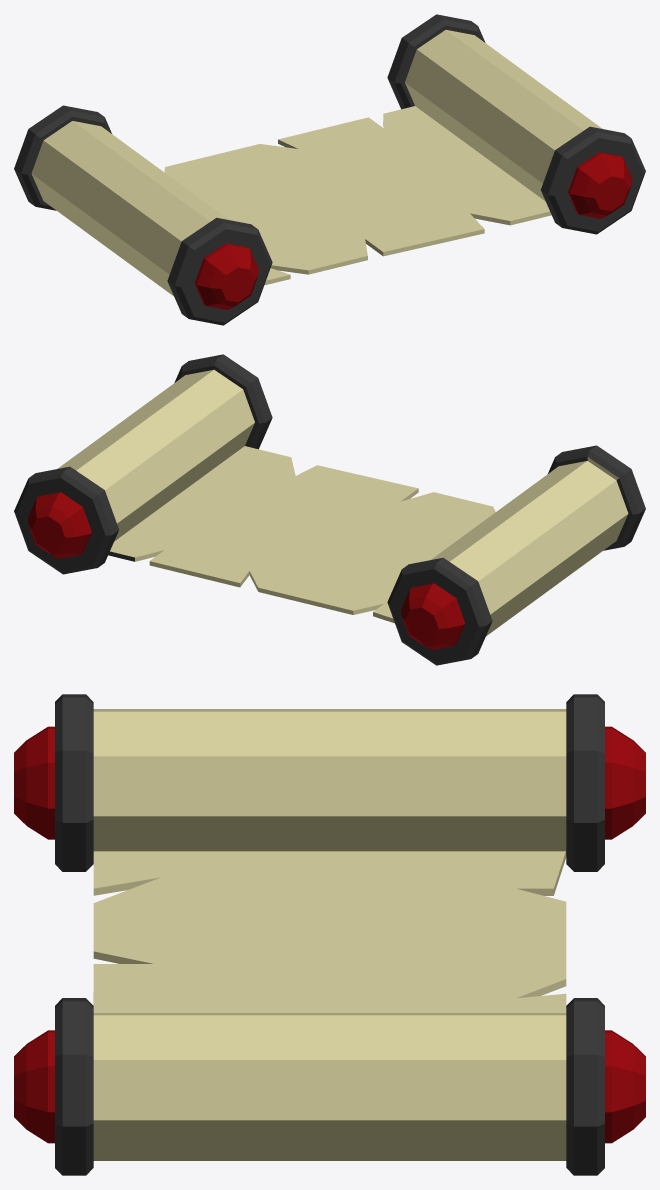
The model's file is scroll.fbx.
3 renders of one model, top to bottom at view 1: azimuth 30°, elevation 25°; view 2: azimuth 150°, elevation 25°; view 3: azimuth 270°, elevation 25°, orthographic. The views are drawn at different scales.
Visible parts, largest first — view 1: Cylinder.001; view 2: Cylinder.001; view 3: Cylinder.001.
Part boxes in pixels (x1,y1,x2,y2): Cylinder.001: [14, 14, 645, 325]; Cylinder.001: [14, 354, 645, 665]; Cylinder.001: [14, 694, 645, 1175].
Bounding box in the file's own units: 0.3 × 0.0625 × 0.2088.
